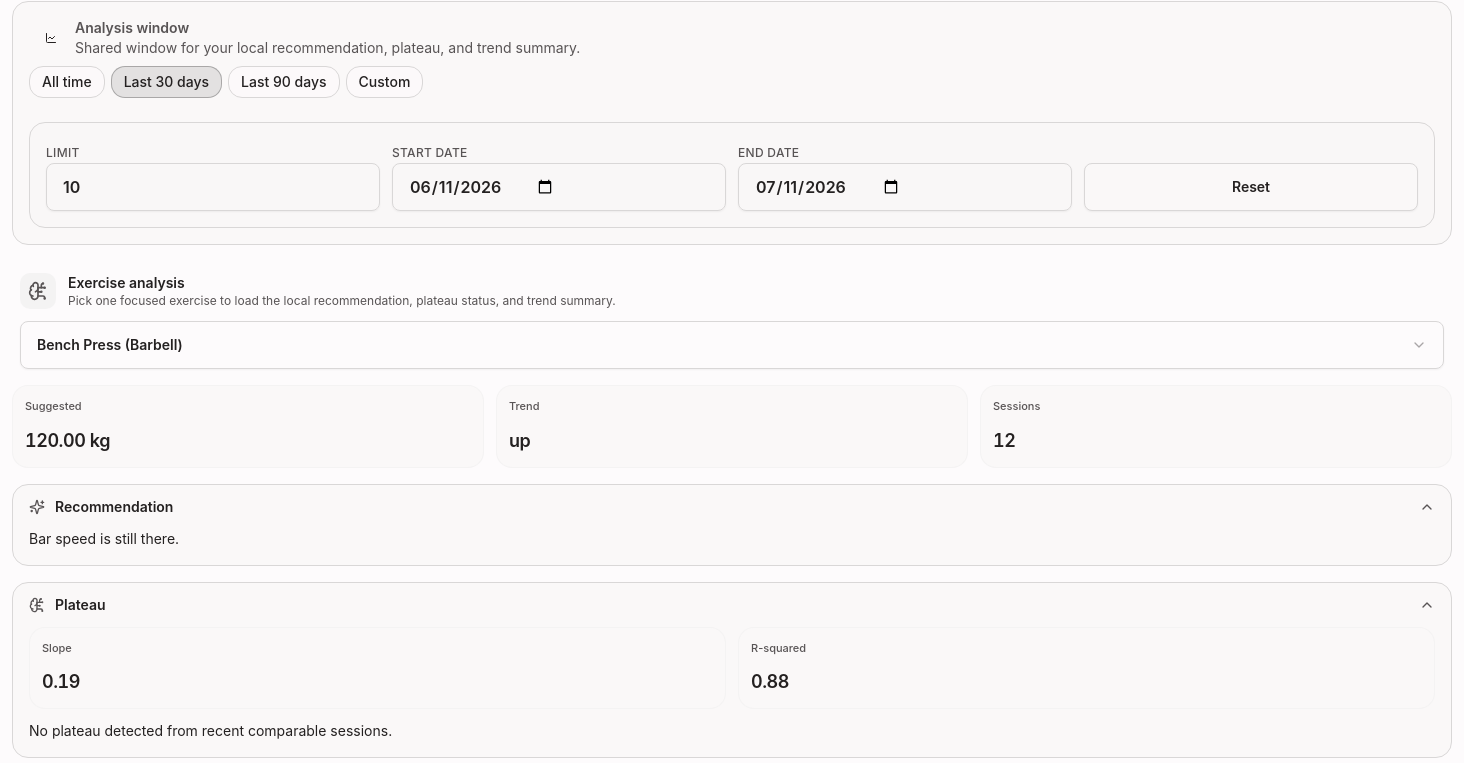
AnalysisTab › debounces limit changes before updating the analysis request
This screenshot has width=1464, height=763.
Step 1. Replace the text in the number field labelled "Limit" with "15" → (213, 187), box [46,163,380,211]
Wait 350 ms
(page scrolled)
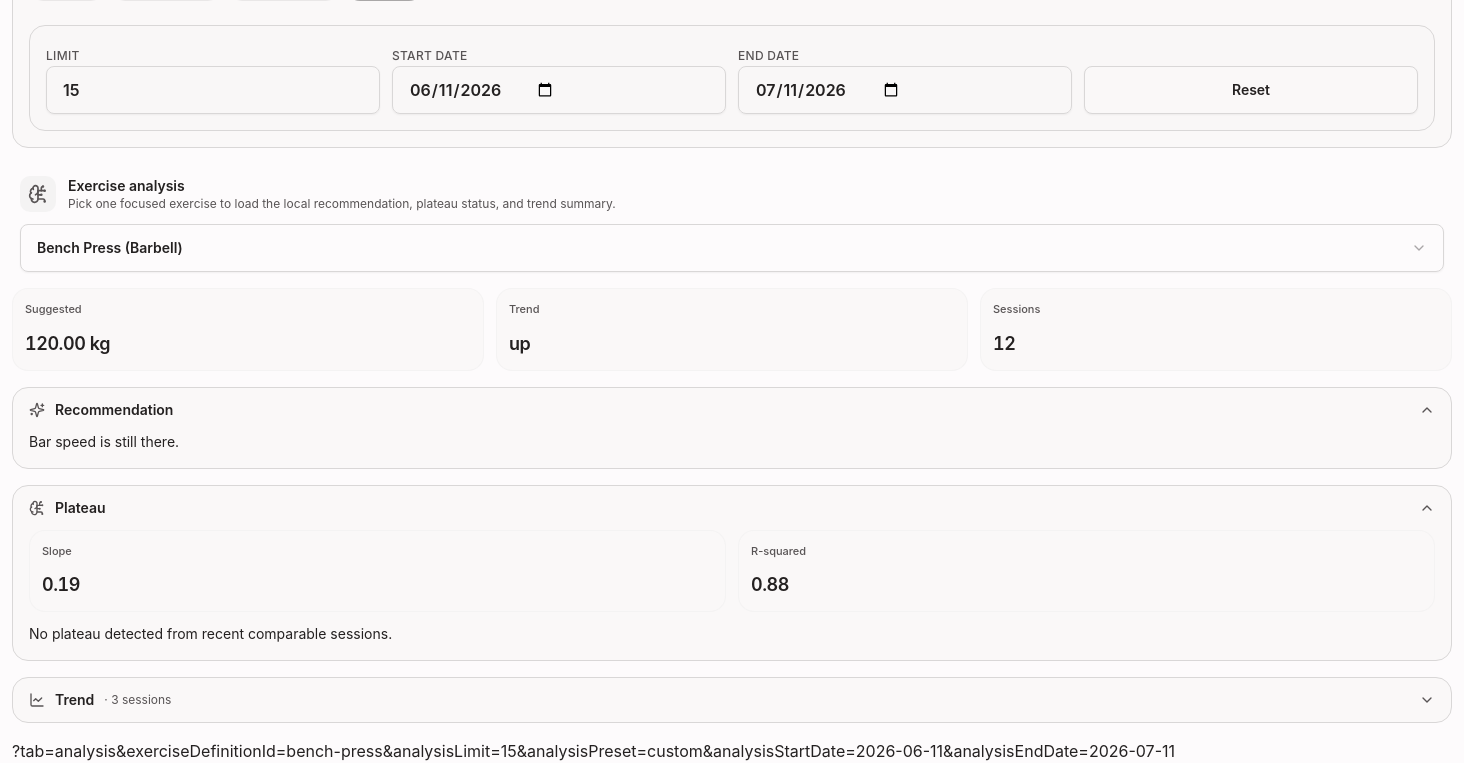
Expected: the text with test id "location-search" shows "analysisLimit=15", [12,741,1175,761]
Expected: the text with test id "location-search" shows "analysisPreset=custom", [12,741,1175,761]
